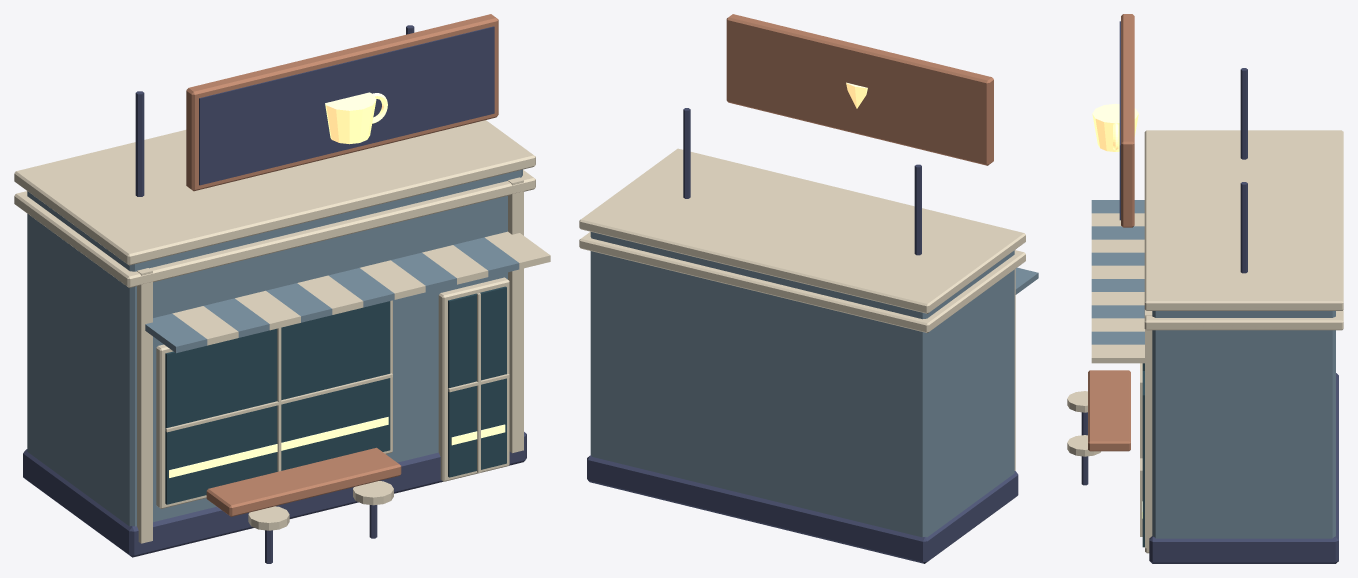
Rendered from sf3_neon_cafe_7m.glb.
3 views of the same model, side by side, from view 1: azimuth 30°, elevation 25°; view 2: azimuth 150°, elevation 25°; view 3: azimuth 270°, elevation 25° (orthographic). The views are drawn at different scales.
Parts seen in each view (by area): view 1: sf3_neon_cafe_7m__sf3-warm-ivory, sf3_neon_cafe_7m__sf3-dusty-blue, sf3_neon_cafe_7m__sf3-deep-glass, sf3_neon_cafe_7m__sf3-midnight-indigo, sf3_neon_cafe_7m__sf3-burnished-copper, sf3_neon_cafe_7m__sf3-warm-window; view 2: sf3_neon_cafe_7m__sf3-dusty-blue, sf3_neon_cafe_7m__sf3-warm-ivory, sf3_neon_cafe_7m__sf3-burnished-copper, sf3_neon_cafe_7m__sf3-midnight-indigo; view 3: sf3_neon_cafe_7m__sf3-warm-ivory, sf3_neon_cafe_7m__sf3-dusty-blue, sf3_neon_cafe_7m__sf3-midnight-indigo, sf3_neon_cafe_7m__sf3-burnished-copper, sf3_neon_cafe_7m__sf3-warm-window, sf3_neon_cafe_7m__sf3-deep-glass.
Part boxes in pixels (x1,y1,x2,y2): sf3_neon_cafe_7m__sf3-warm-ivory: (14,120,550,543); sf3_neon_cafe_7m__sf3-dusty-blue: (27,169,522,526); sf3_neon_cafe_7m__sf3-deep-glass: (165,286,506,504); sf3_neon_cafe_7m__sf3-midnight-indigo: (23,25,526,563); sf3_neon_cafe_7m__sf3-burnished-copper: (186,14,498,516); sf3_neon_cafe_7m__sf3-warm-window: (169,92,505,477); sf3_neon_cafe_7m__sf3-dusty-blue: (590,232,1038,537); sf3_neon_cafe_7m__sf3-warm-ivory: (579,148,1025,470); sf3_neon_cafe_7m__sf3-burnished-copper: (726,14,993,165); sf3_neon_cafe_7m__sf3-midnight-indigo: (587,108,1018,563); sf3_neon_cafe_7m__sf3-warm-ivory: (1067,130,1343,553); sf3_neon_cafe_7m__sf3-dusty-blue: (1091,200,1335,538); sf3_neon_cafe_7m__sf3-midnight-indigo: (1081,21,1338,563); sf3_neon_cafe_7m__sf3-burnished-copper: (1088,14,1134,451); sf3_neon_cafe_7m__sf3-warm-window: (1092,103,1142,518); sf3_neon_cafe_7m__sf3-deep-glass: (1142,363,1144,547).
Size of the model in its own units: 6.65 by 7.28 by 4.51.
